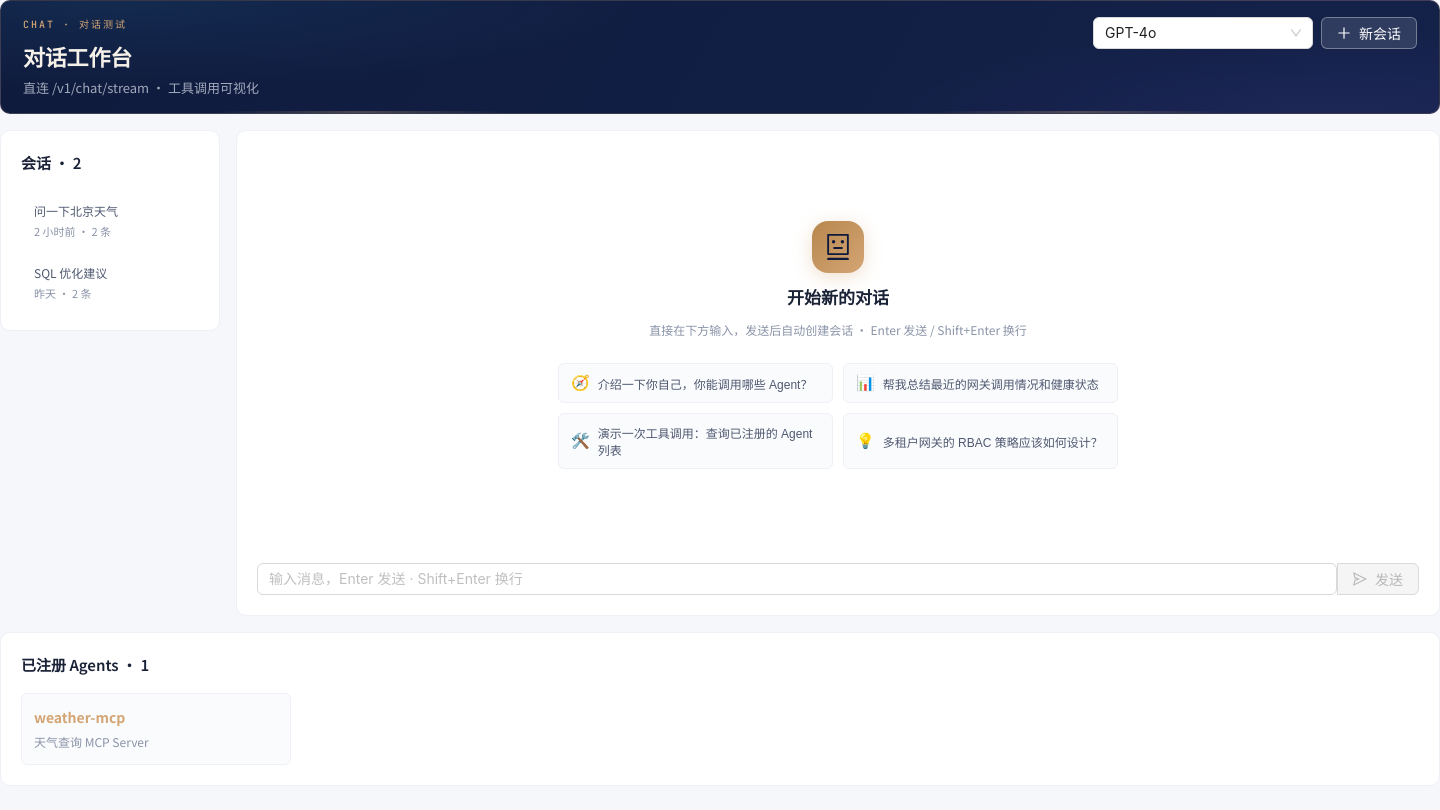
Test: Chat — left menu /chat › 新会话 button resets to blank state without POSTing /v1/sessions
Note: 先选中一个历史会话
Click the text "问一下北京天气" at [76, 211], box [34,202,118,219]
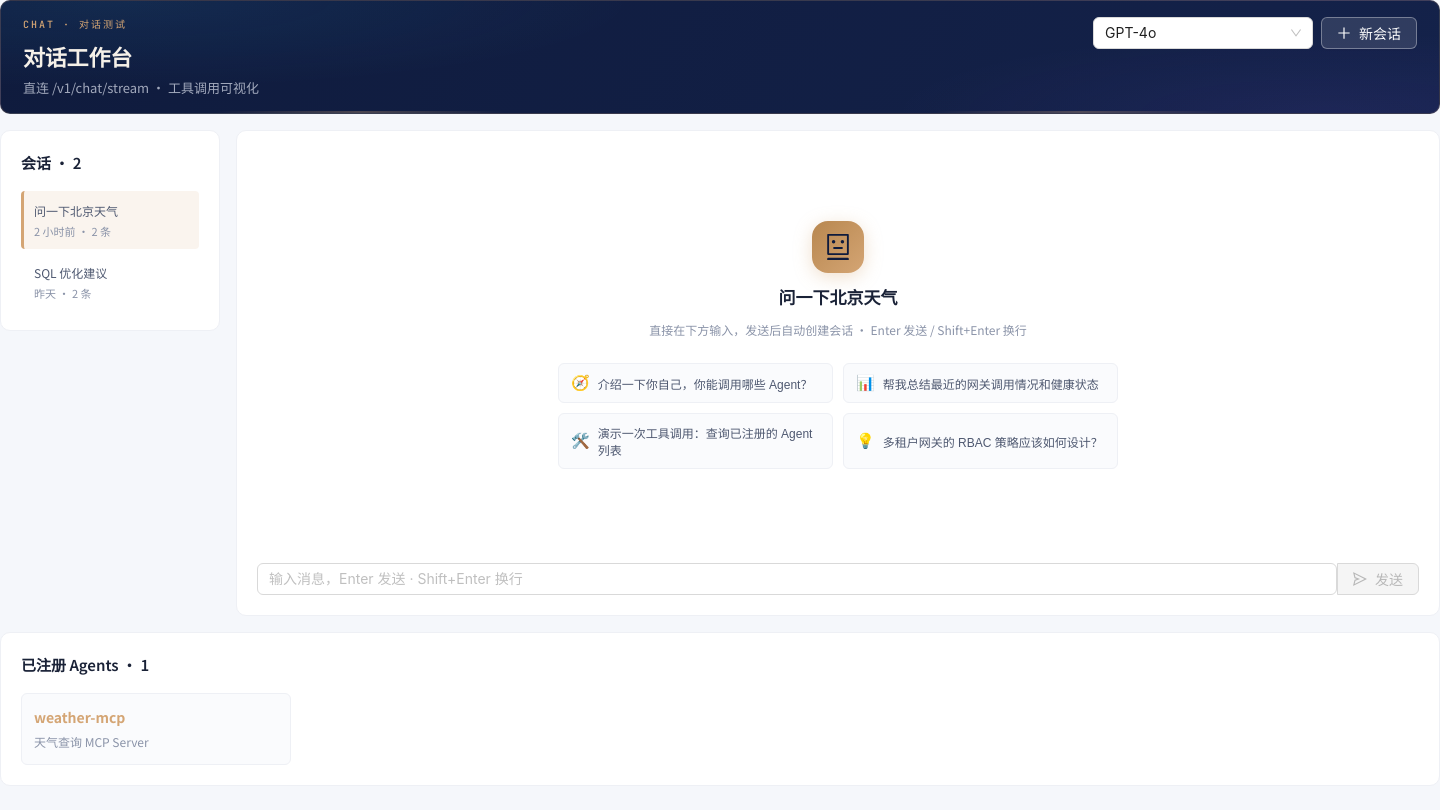
Expected: the text with class "chat-empty-hero-title" is shown, [778,283,898,310]
Click the button "新会话" at [1369, 33], box [1321,17,1417,49]
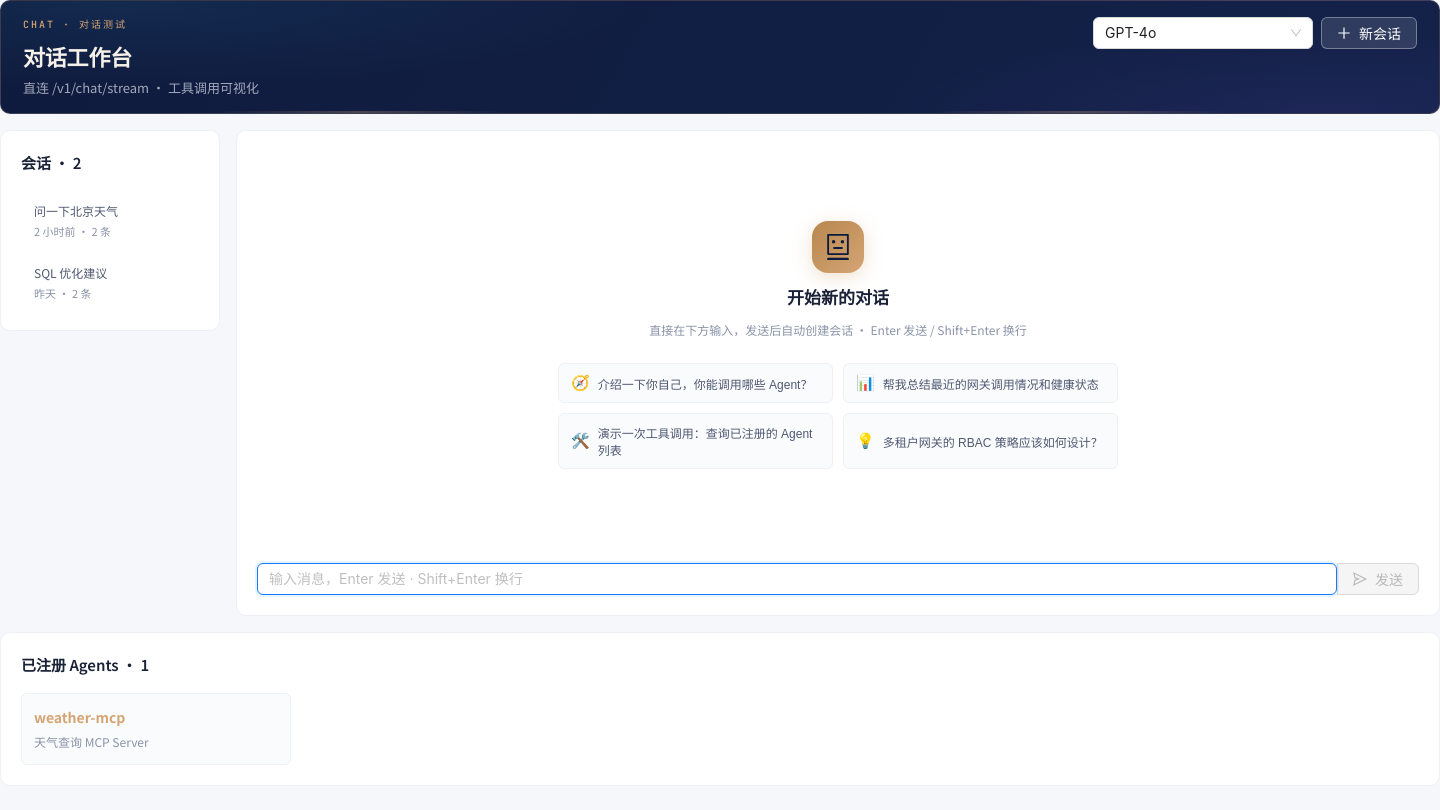
Expected: the text "开始新的对话" is shown, [787,283,889,310]
